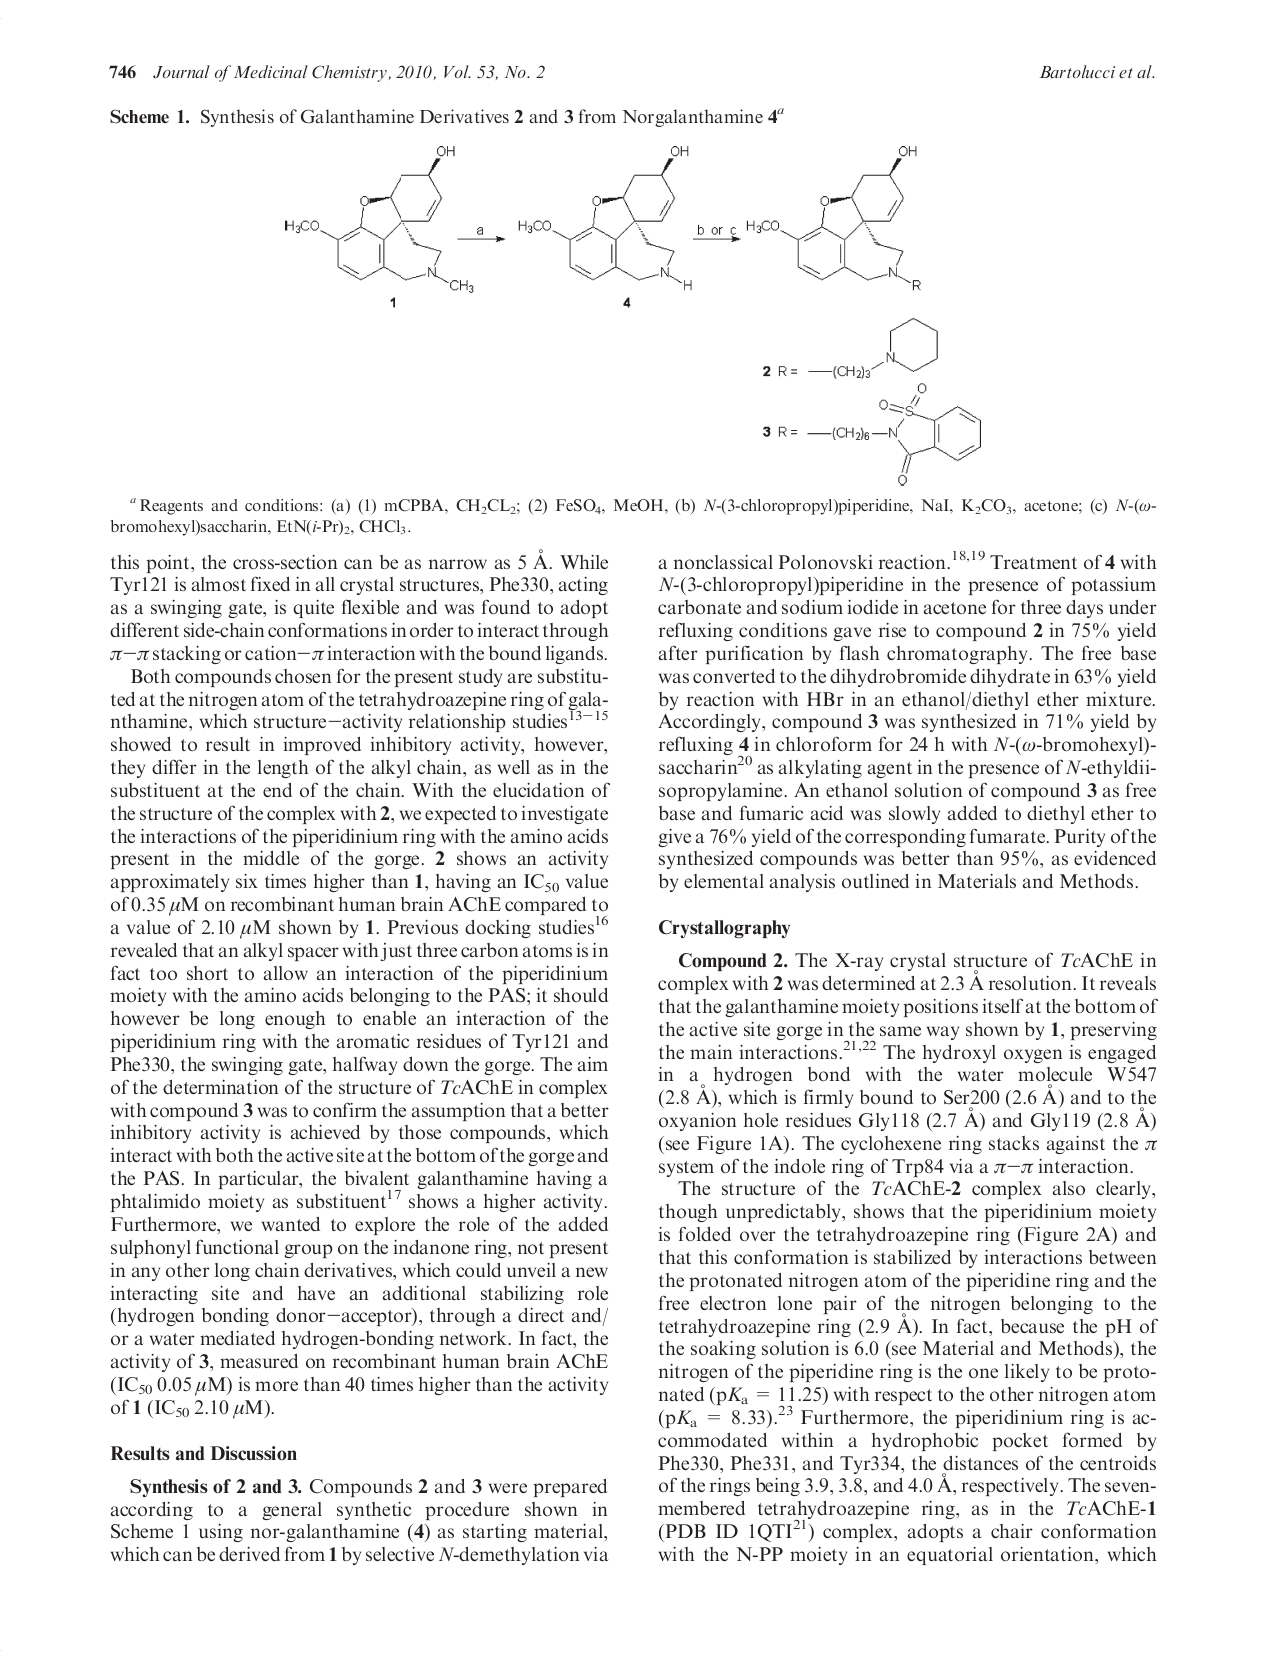exist_molecular: (282, 144, 476, 295), (515, 142, 696, 293), (745, 142, 923, 293), (806, 380, 983, 489), (805, 317, 942, 383)
